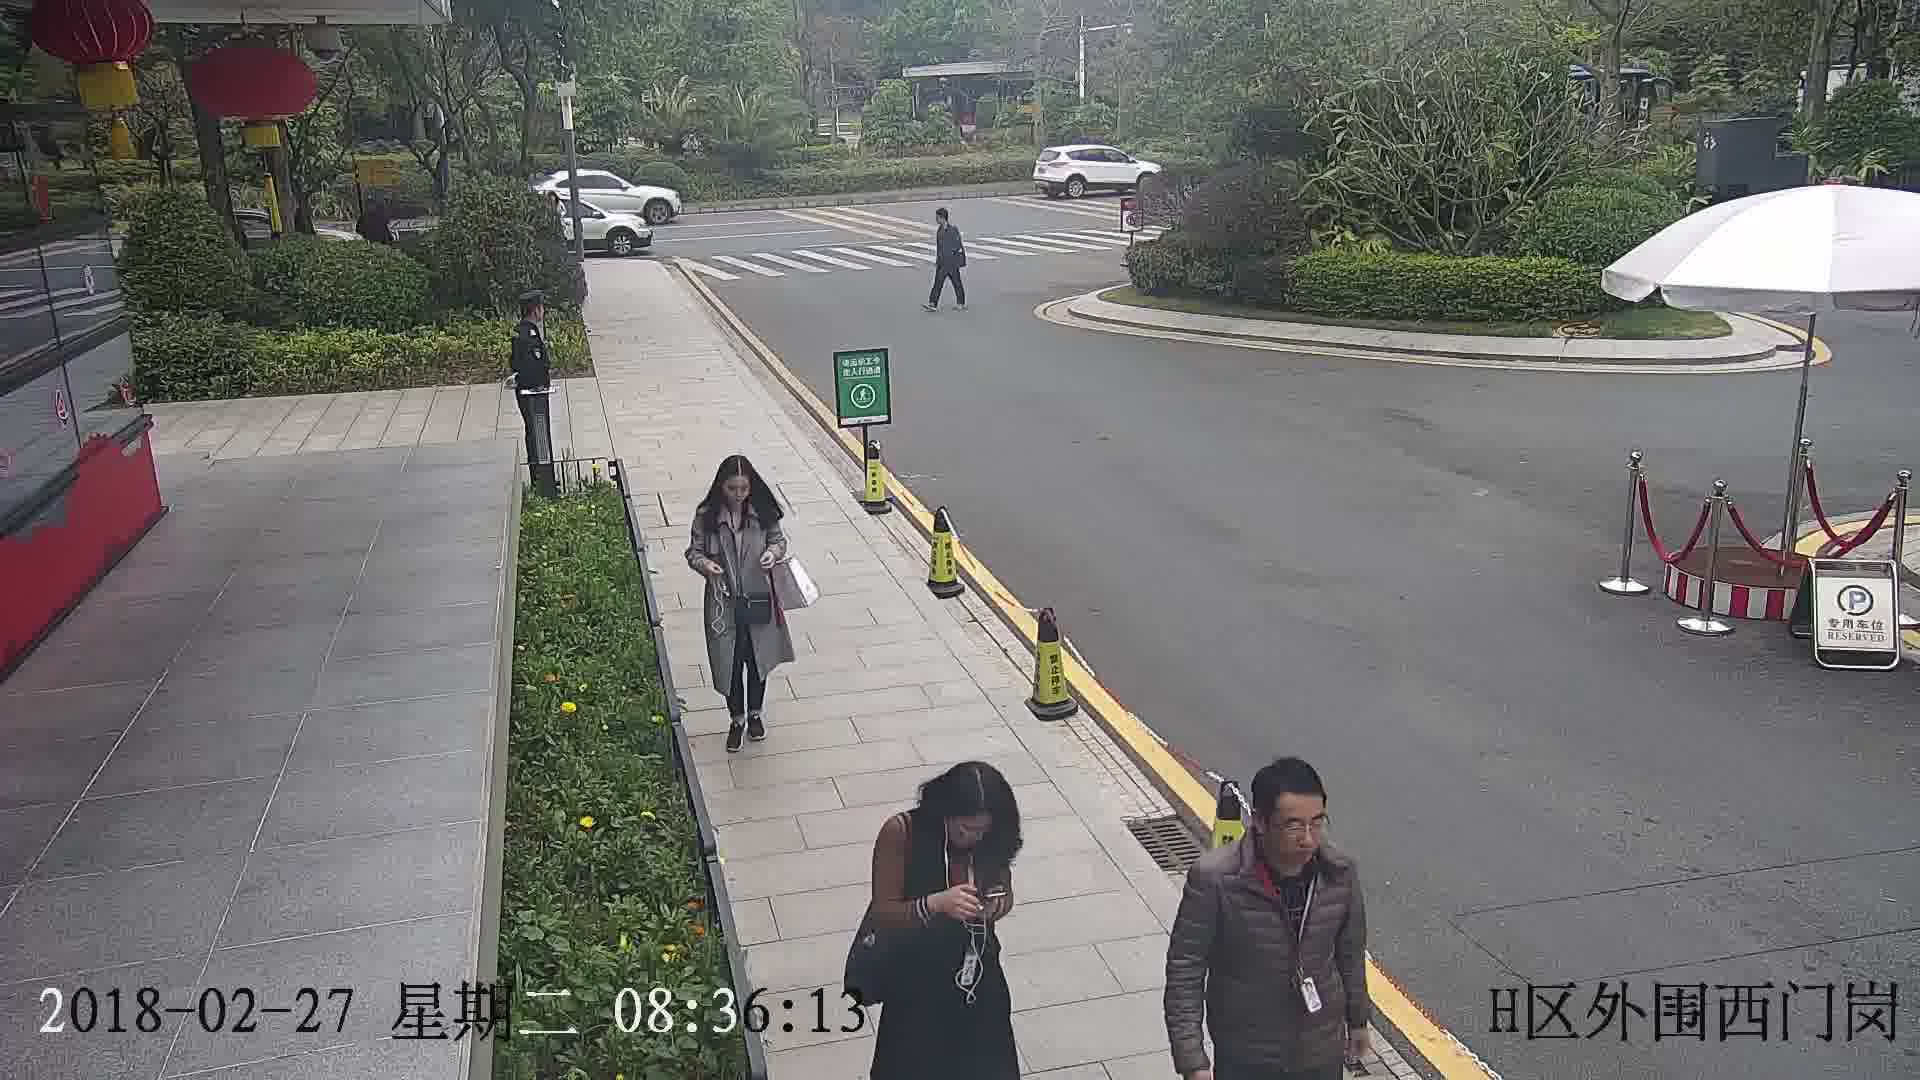face: (1257, 794, 1331, 868)
person: (1183, 757, 1364, 932), (872, 758, 1027, 877), (693, 453, 779, 533), (511, 291, 551, 347), (931, 206, 961, 239)
